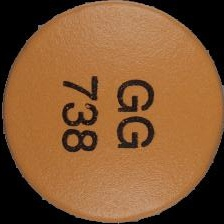54868-3659: (0, 0, 224, 224)
